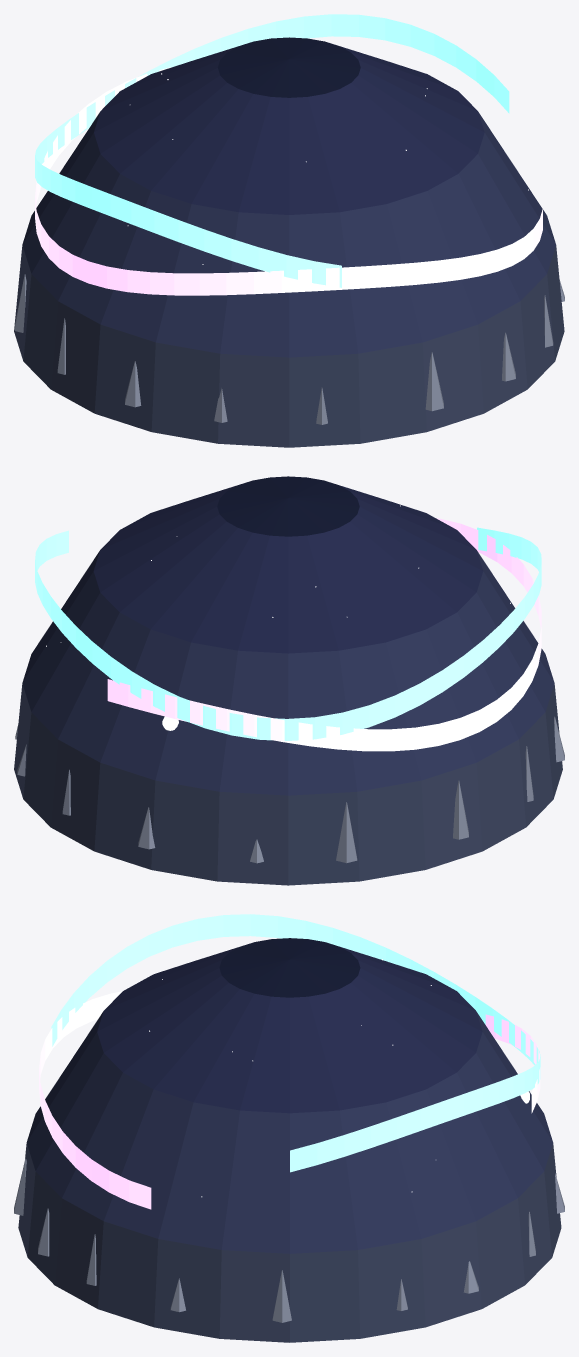
The model's file is sky_aurora_night.glb.
3 views of the same model, one above another, from view 1: azimuth 30°, elevation 25°; view 2: azimuth 150°, elevation 25°; view 3: azimuth 270°, elevation 25° (orthographic).
Visible parts, largest first — view 1: skyband1, skyband0, skyband2, aurora0, aurora1, skyband3, peaks; view 2: skyband1, skyband0, skyband2, aurora0, aurora1, skyband3, peaks; view 3: skyband1, skyband0, skyband2, aurora0, skyband3, aurora1, peaks.
Part boxes in pixels (x1=…): skyband1: x1=22, y1=112, x2=555, y2=357; skyband0: x1=14, y1=245, x2=564, y2=447; skyband2: x1=94, y1=46, x2=484, y2=214; aurora0: x1=35, y1=14, x2=509, y2=287; aurora1: x1=35, y1=67, x2=542, y2=295; skyband3: x1=218, y1=37, x2=360, y2=97; peaks: x1=14, y1=274, x2=564, y2=424; skyband1: x1=22, y1=551, x2=554, y2=795; skyband0: x1=14, y1=684, x2=562, y2=885; skyband2: x1=93, y1=485, x2=483, y2=653; aurora0: x1=35, y1=527, x2=541, y2=740; aurora1: x1=107, y1=518, x2=541, y2=751; skyband3: x1=217, y1=476, x2=359, y2=536; peaks: x1=15, y1=716, x2=564, y2=863; skyband1: x1=26, y1=1011, x2=552, y2=1253; skyband0: x1=18, y1=1143, x2=561, y2=1342; skyband2: x1=97, y1=946, x2=482, y2=1113; aurora0: x1=51, y1=914, x2=540, y2=1172; skyband3: x1=219, y1=938, x2=360, y2=997; aurora1: x1=39, y1=991, x2=540, y2=1209; peaks: x1=14, y1=1158, x2=564, y2=1322.
Size of the model in its own units: 181 by 97.84 by 182.
